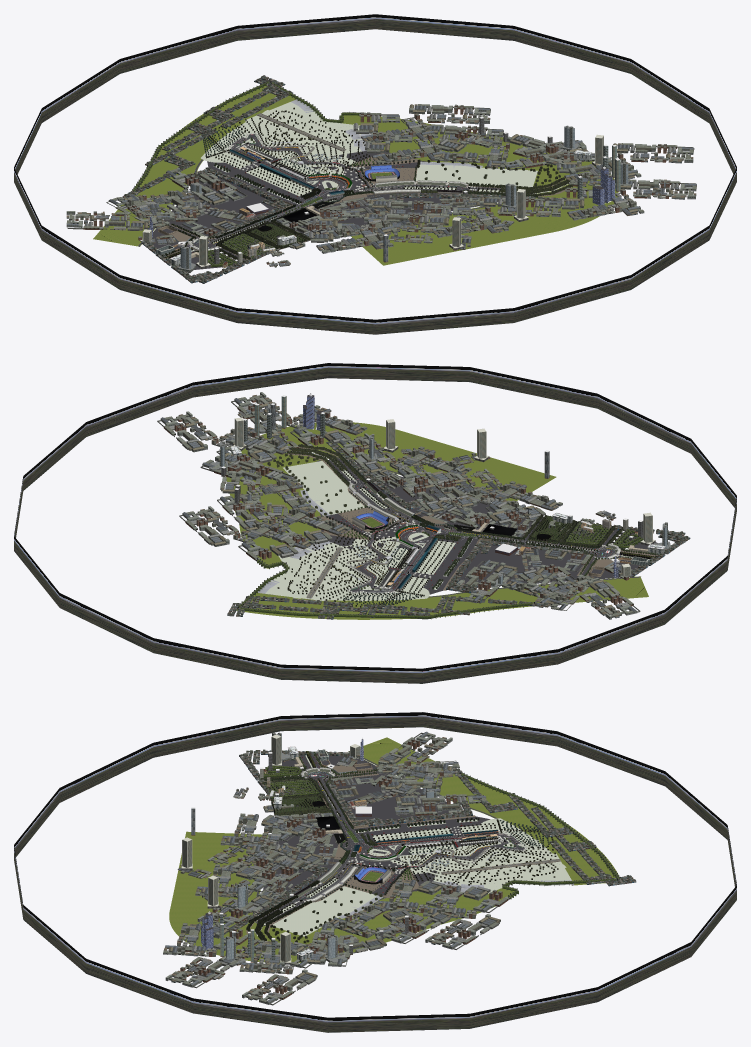
Rendered from hanoicircuit-optimized.glb.
3 renders of one model, top to bottom at view 1: azimuth 30°, elevation 25°; view 2: azimuth 150°, elevation 25°; view 3: azimuth 270°, elevation 25°, orthographic.
Visible parts, largest first — view 1: hanoi_street_circuit; view 2: hanoi_street_circuit; view 3: hanoi_street_circuit.
Boxes of the visible parts, box(x1,y1,x2,y2) form: hanoi_street_circuit: box(14, 14, 736, 334); hanoi_street_circuit: box(14, 363, 736, 683); hanoi_street_circuit: box(14, 712, 736, 1032).
Size of the model in its own units: 3914 by 262 by 3914.
Materials: 403 (349 with a texture image).
